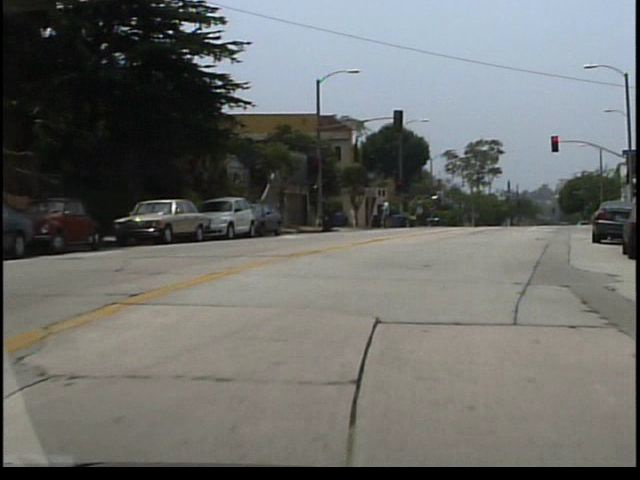person: (383, 199, 395, 231), (354, 205, 362, 230)
